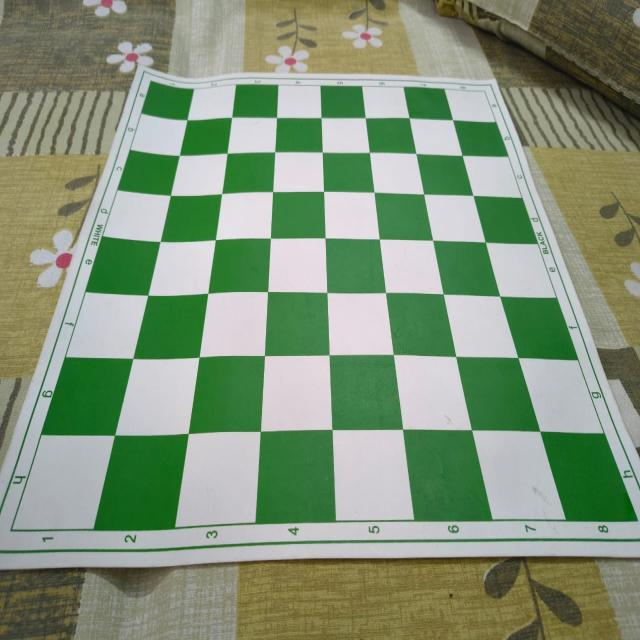square: (12, 437, 112, 531), (540, 432, 636, 522), (95, 434, 185, 529), (477, 431, 568, 522), (406, 430, 496, 522), (177, 432, 261, 528), (256, 430, 336, 524), (335, 430, 415, 523), (42, 357, 130, 433), (114, 359, 197, 436), (522, 359, 604, 433), (459, 357, 542, 430), (187, 356, 264, 432), (331, 356, 407, 432), (398, 357, 476, 431), (261, 359, 334, 431), (68, 293, 144, 359), (129, 294, 205, 360), (503, 295, 577, 359), (447, 295, 521, 357), (200, 292, 269, 358), (388, 293, 461, 355), (328, 294, 397, 358), (86, 236, 157, 297), (266, 290, 332, 354), (436, 239, 504, 298), (206, 237, 272, 297), (149, 240, 215, 298), (489, 241, 554, 297), (103, 190, 166, 247), (327, 238, 389, 294), (380, 239, 443, 294), (267, 238, 328, 294), (377, 192, 436, 244), (161, 192, 220, 243), (475, 194, 536, 243), (217, 191, 276, 241), (424, 196, 486, 243), (118, 150, 176, 199), (324, 192, 382, 240), (271, 190, 328, 238), (463, 156, 522, 199), (132, 113, 186, 158), (420, 154, 474, 198), (224, 152, 278, 196), (172, 154, 228, 196), (324, 152, 378, 193), (370, 154, 424, 195), (141, 78, 191, 120), (456, 119, 508, 158), (410, 118, 463, 156), (274, 153, 324, 192), (180, 118, 232, 155), (366, 118, 417, 154), (227, 118, 277, 154), (275, 116, 324, 152), (445, 89, 496, 122), (322, 118, 370, 153), (188, 85, 236, 120), (404, 87, 454, 120), (232, 82, 277, 118), (362, 86, 410, 118), (321, 86, 366, 118), (277, 86, 321, 118)
